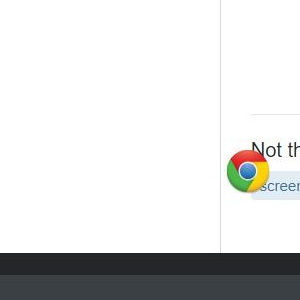chrome: (226, 149, 269, 193)
